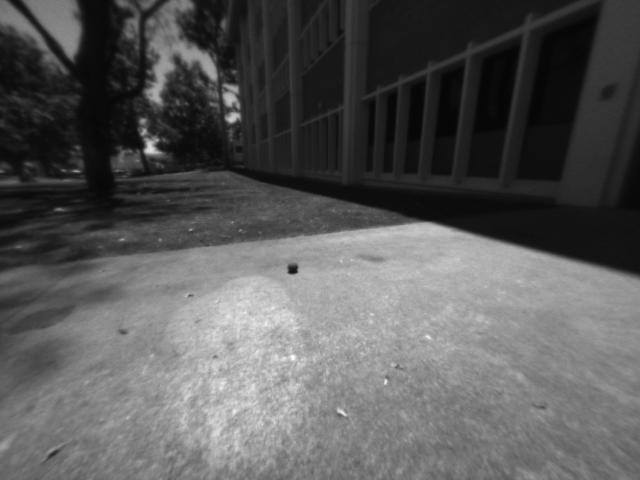dogtoy: (281, 256, 303, 280)
